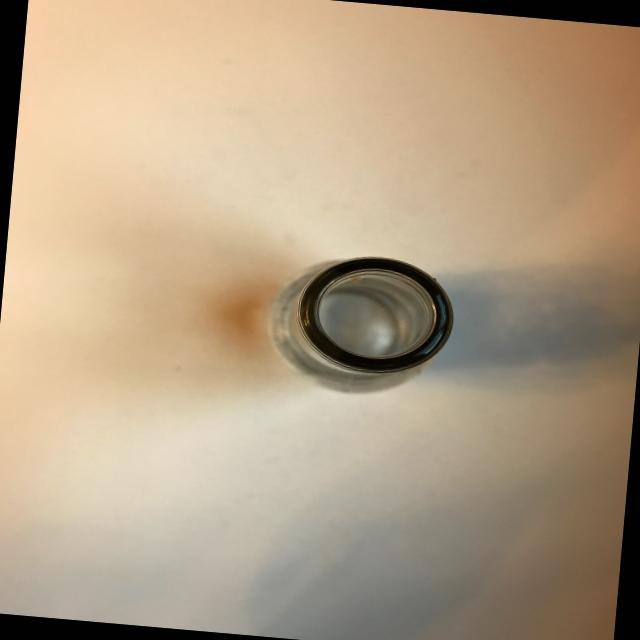Glass: (207, 208, 478, 432)
